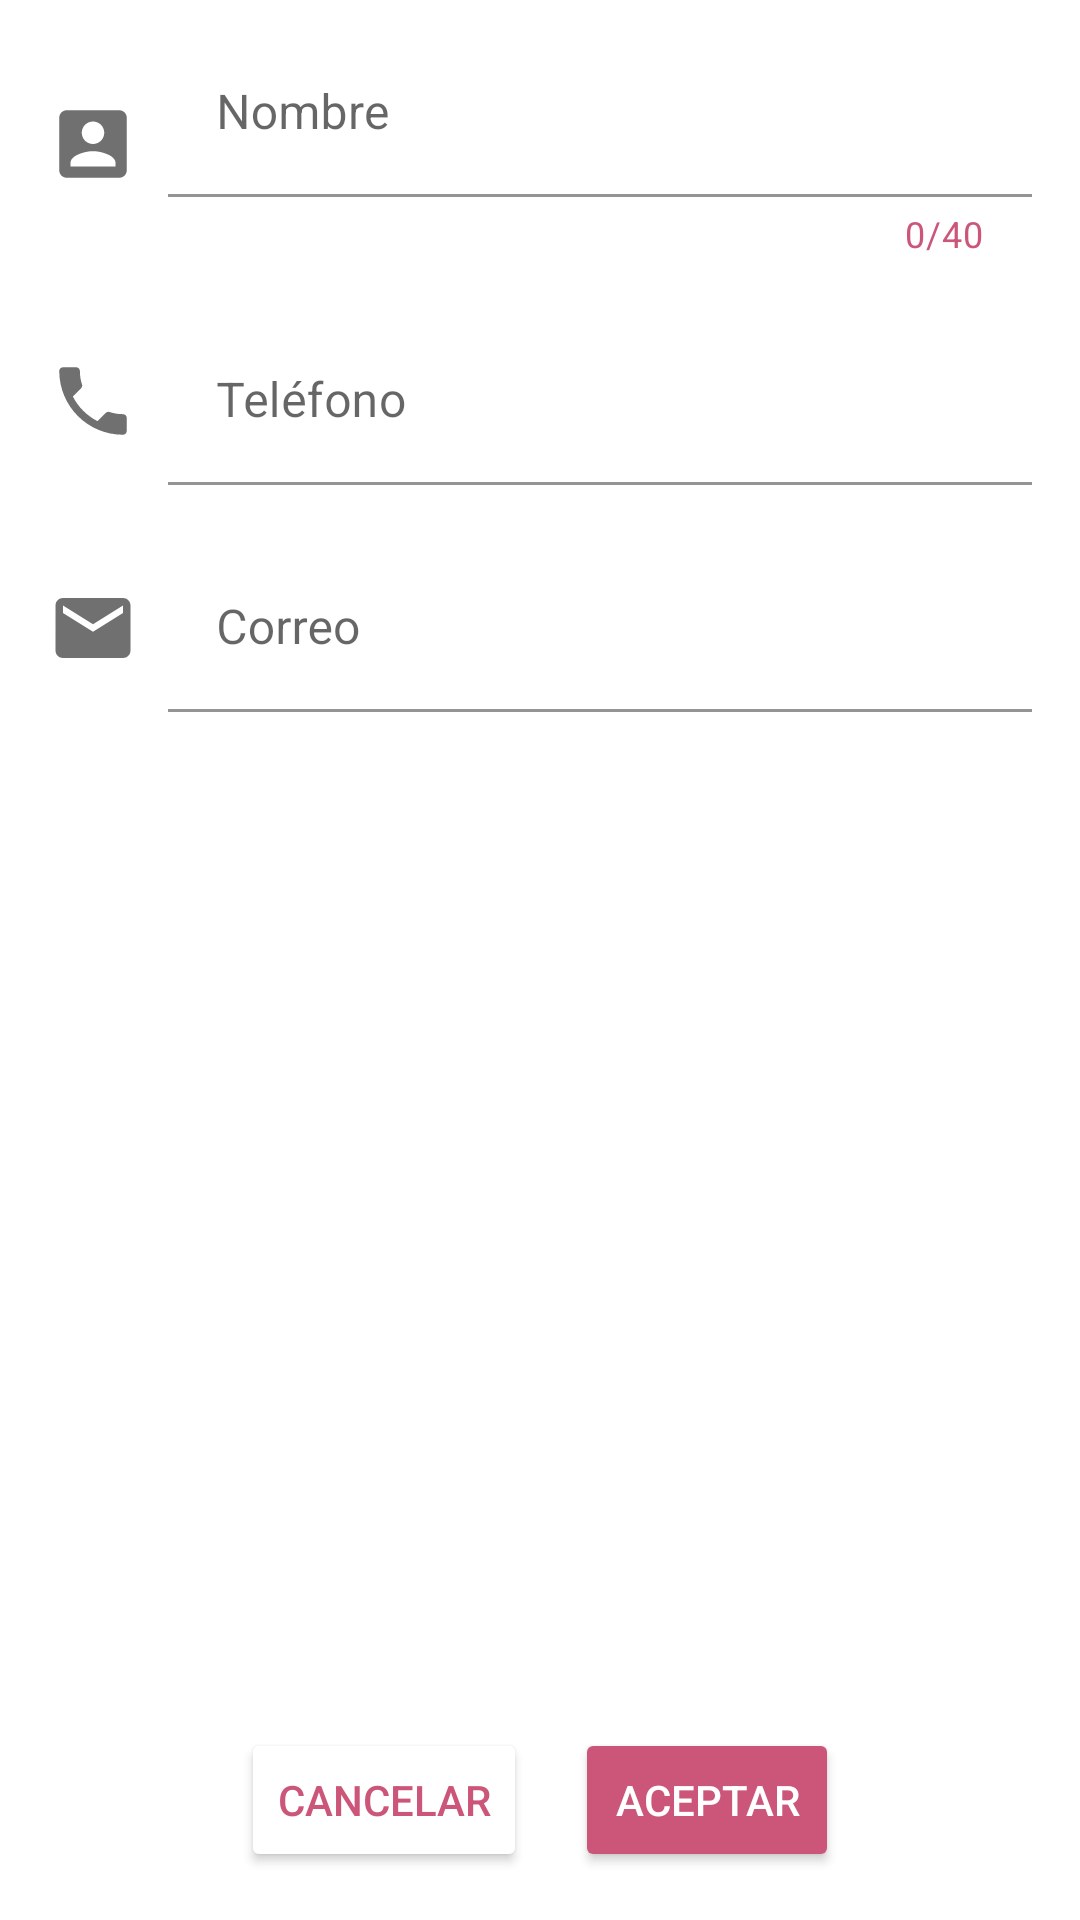

Where icons sit on this 1080x1920 app screen, as (x1,y1,x2,y2):
account box: (59,110,127,178)
email: (55,598,131,658)
phone: (59,367,127,435)
